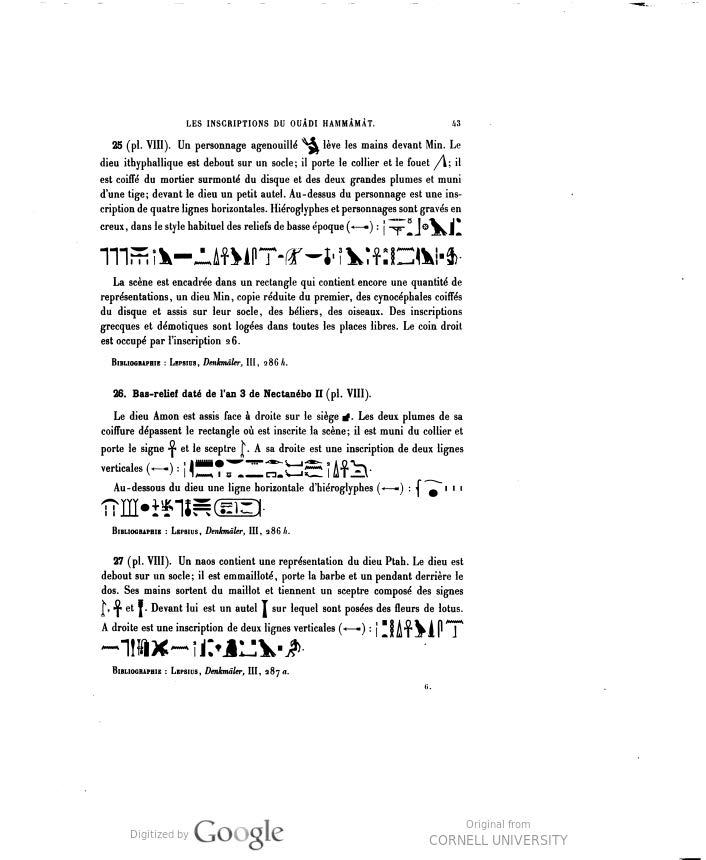circle: (205, 491, 269, 525)
